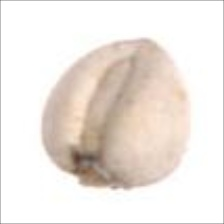L5: (78, 56, 140, 156), (73, 151, 142, 196), (117, 33, 171, 60)
L6: (38, 36, 195, 193)
